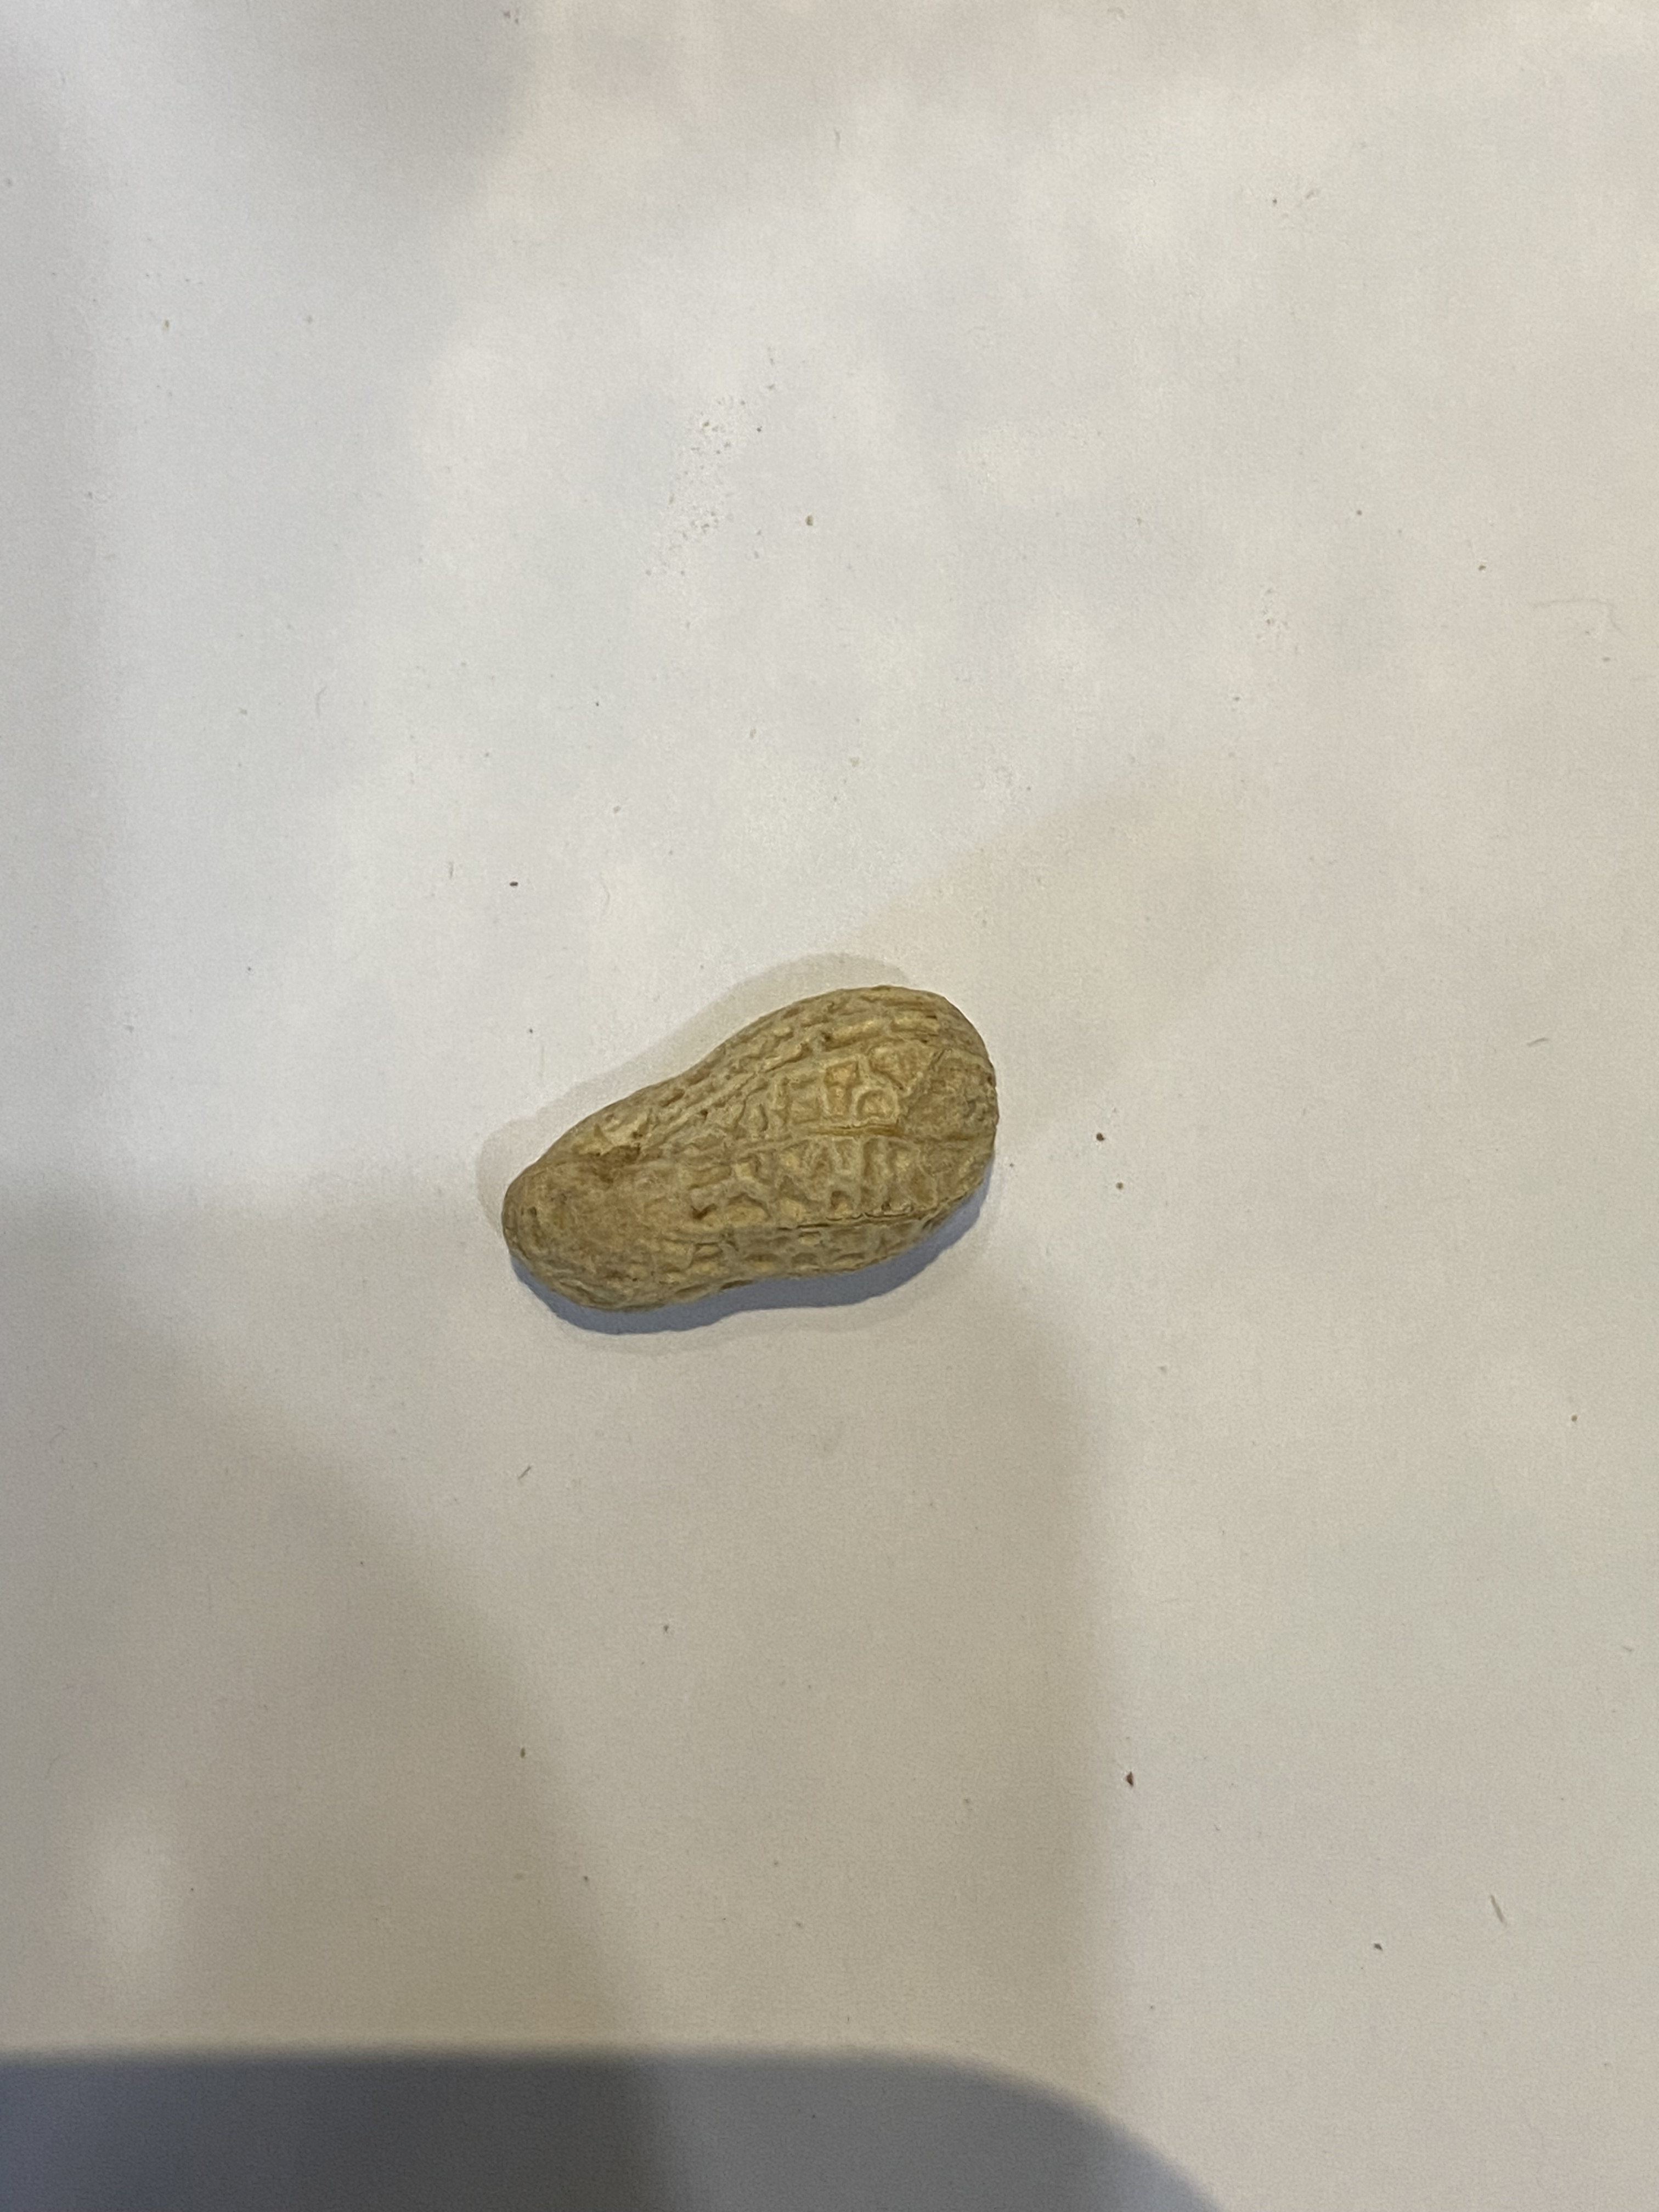kacang1: (488, 972, 1002, 1329)
